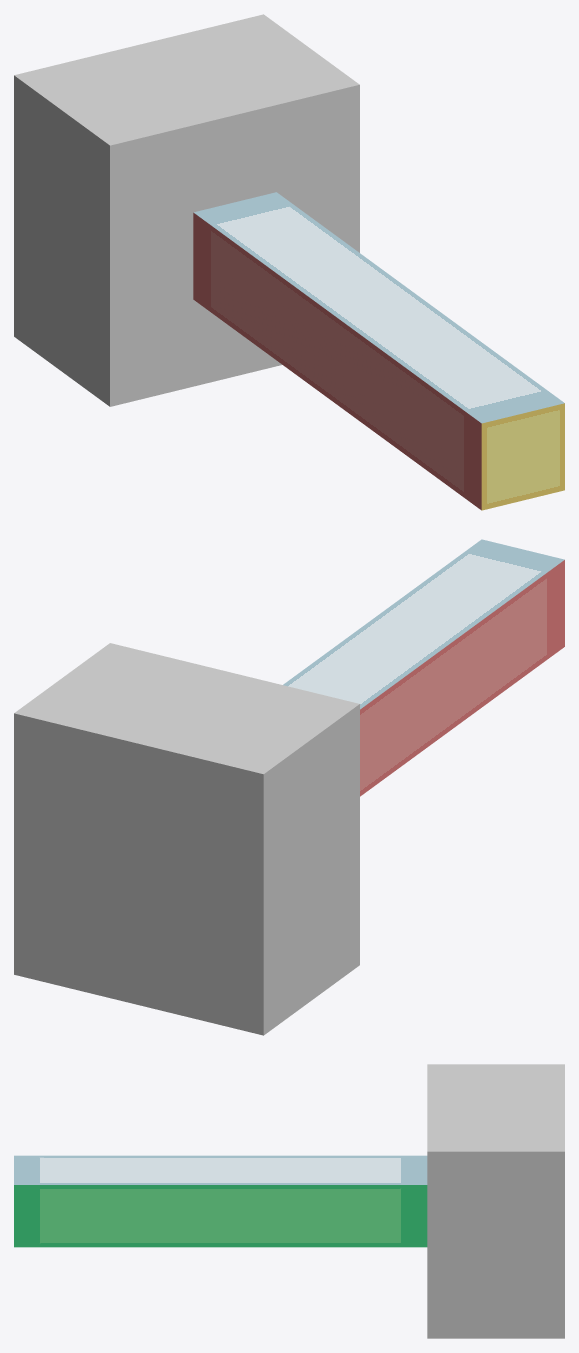
The model's file is Schraube.fbx.
3 views of the same model, one above another, from view 1: azimuth 30°, elevation 25°; view 2: azimuth 150°, elevation 25°; view 3: azimuth 270°, elevation 25° (orthographic). The views are drawn at different scales.
Parts seen in each view (by area): view 1: cube_1, cube; view 2: cube_1, cube; view 3: cube, cube_1.
Part boxes in pixels (x1,y1,x2,y2): cube_1: [14, 14, 359, 406]; cube: [193, 192, 564, 510]; cube_1: [14, 643, 359, 1035]; cube: [283, 539, 564, 796]; cube: [14, 1155, 427, 1247]; cube_1: [427, 1064, 564, 1338].
Size of the model in its own units: 18.75 by 18.75 by 50.
1 material, 1 textured.
